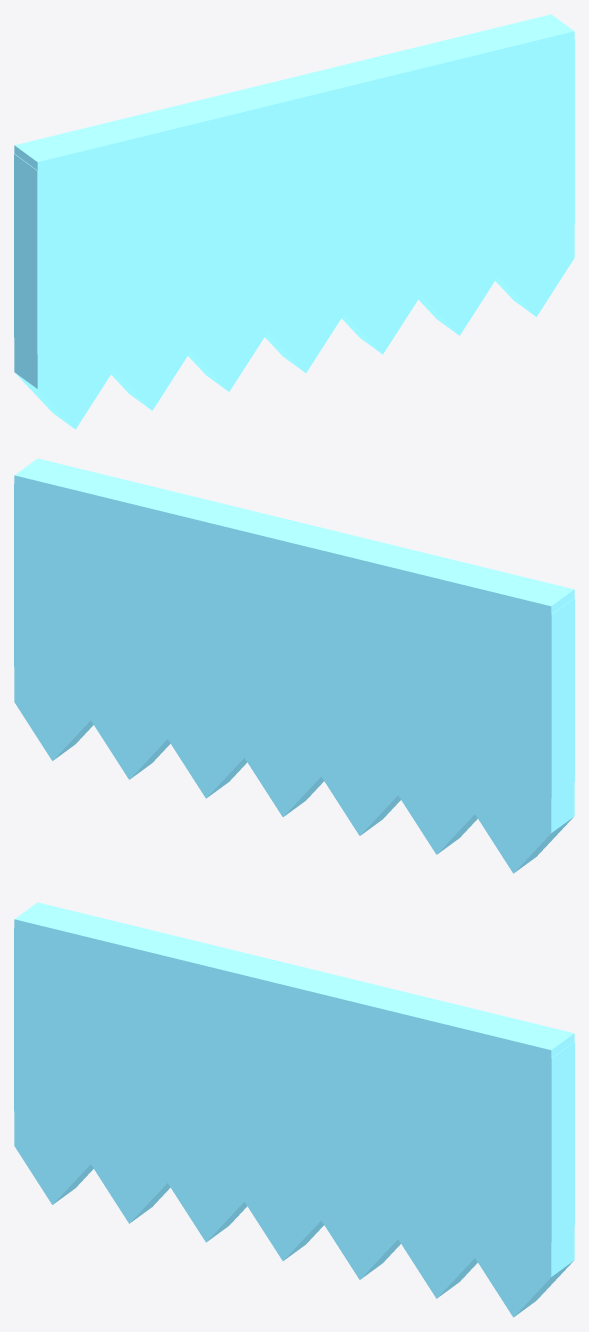
The model's file is h15_lip_ice.fbx.
3 renders of one model, top to bottom at view 1: azimuth 30°, elevation 25°; view 2: azimuth 150°, elevation 25°; view 3: azimuth 330°, elevation 25°, orthographic.
Visible parts, largest first — view 1: h15_lip_ice__Ice; view 2: h15_lip_ice__Ice; view 3: h15_lip_ice__Ice.
Part boxes in pixels (<box>): h15_lip_ice__Ice: <box>14,14,574,429</box>; h15_lip_ice__Ice: <box>14,458,574,873</box>; h15_lip_ice__Ice: <box>14,902,574,1317</box>.
Size of the model in its own units: 6.7 by 3.29 by 0.5.
